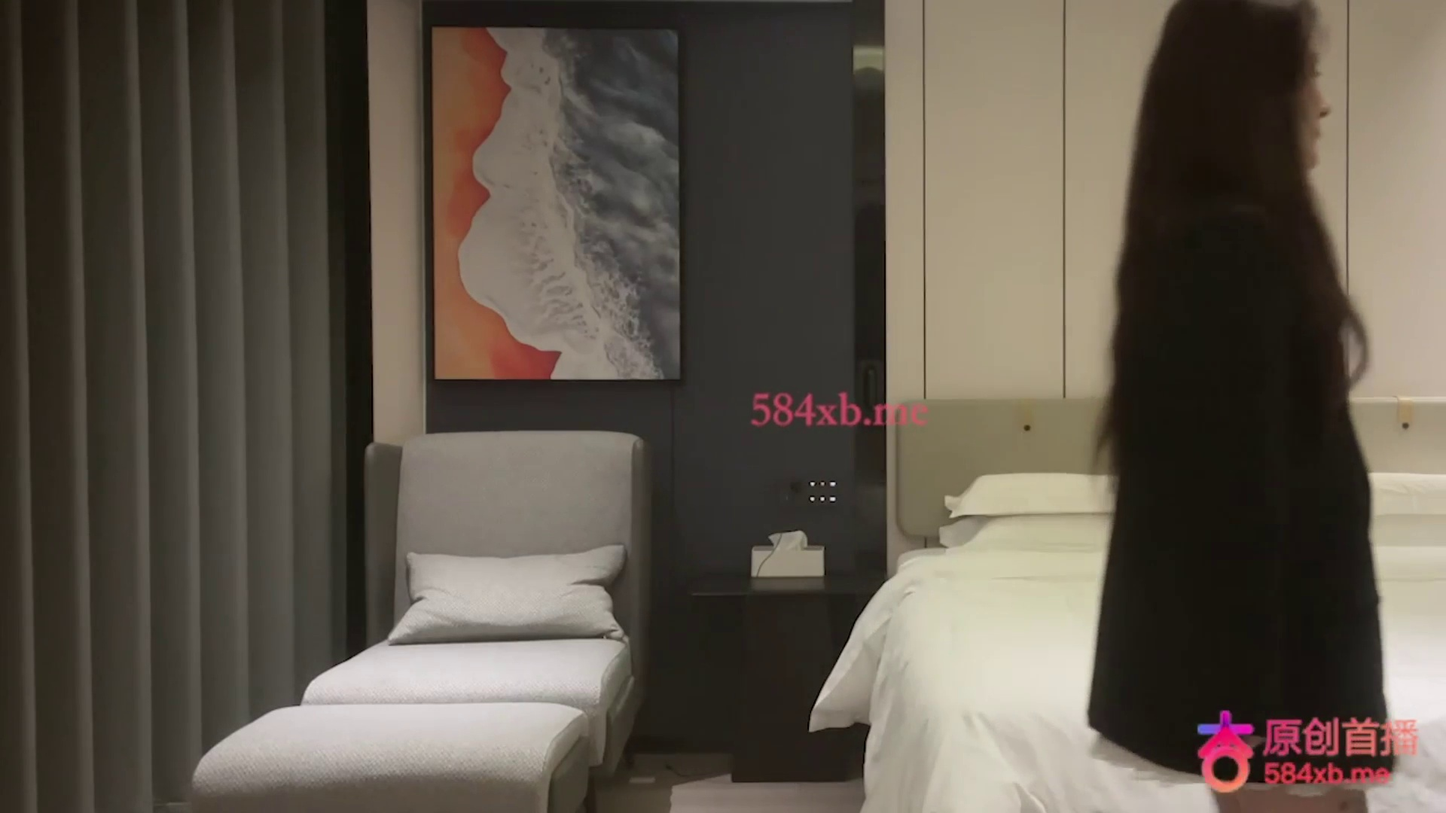stand: (1085, 1, 1401, 811)
